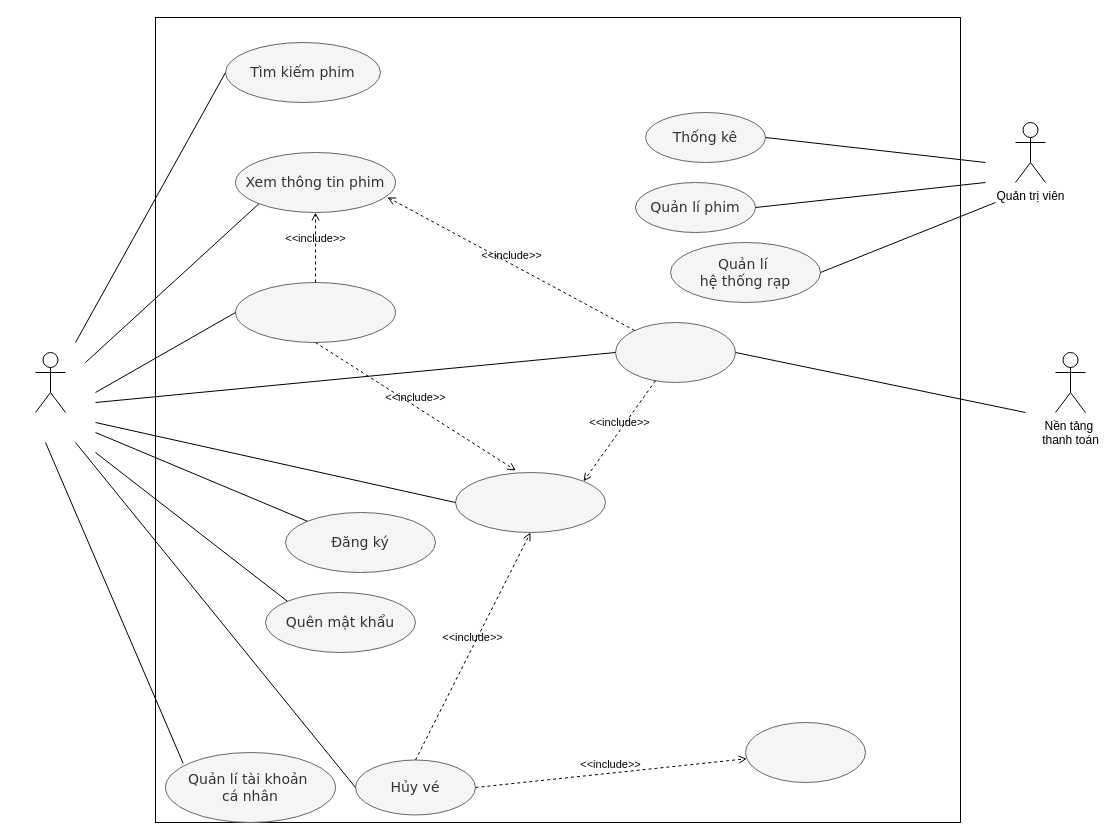
The diagram is 1116 pixels wide and 840 high, and some of its shapes have lost their labels. Here are the shapes that lost their labels. From the top down, the centre of each, then its label:
At point 315,312: "Đánh giá phim".
At point 675,352: "Đặt vé".
At point 50,382: "Người dùng".
At point 530,502: "Đăng nhập".
At point 805,752: "Hoàn tiền".
